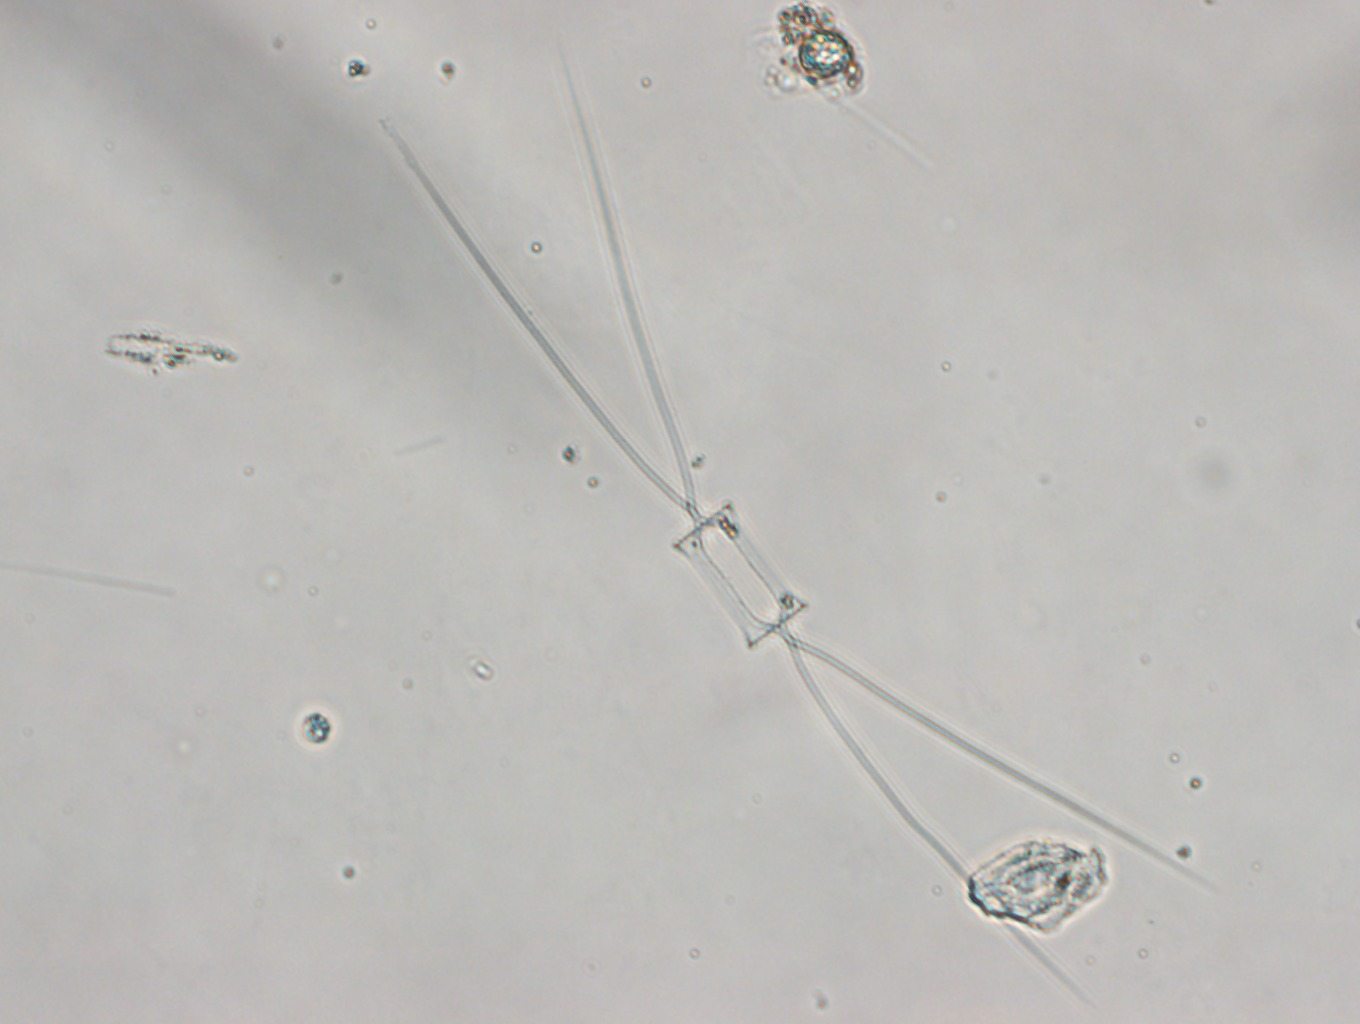chaetoceros: (372, 45, 1204, 1000)
